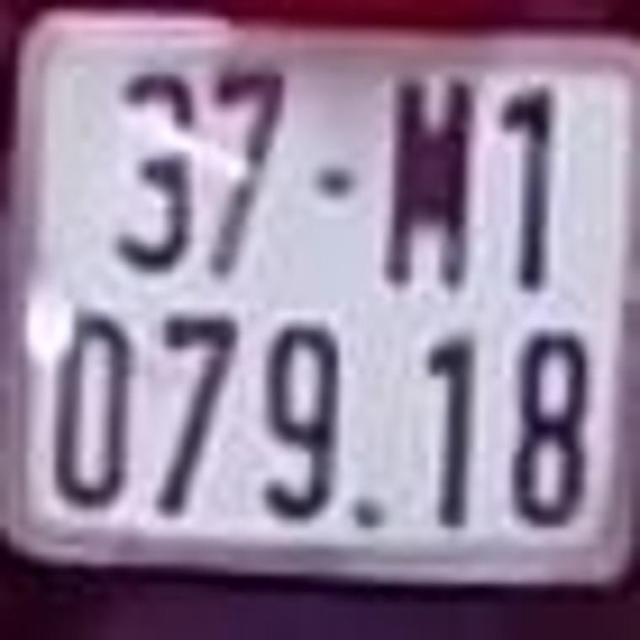0: (49, 298, 134, 509)
1: (498, 76, 558, 292), (424, 327, 478, 530)
3: (110, 63, 197, 276)
7: (153, 305, 239, 518), (207, 62, 287, 281)
8: (514, 326, 588, 529)
9: (259, 310, 340, 522)
M: (387, 66, 477, 296)
